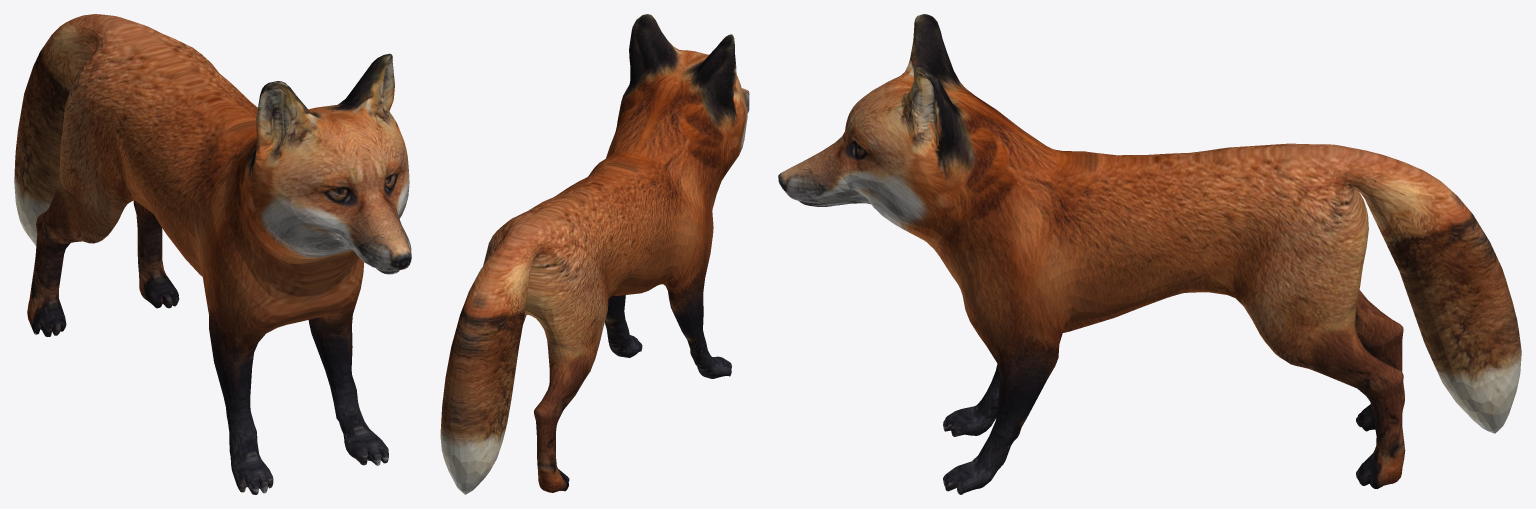
The model's file is Fox.fbx.
3 views of the same model, side by side, from view 1: azimuth 30°, elevation 25°; view 2: azimuth 150°, elevation 25°; view 3: azimuth 270°, elevation 25° (orthographic). The views are drawn at different scales.
Visible parts, largest first — view 1: Fox.002; view 2: Fox.002; view 3: Fox.002.
Part boxes in pixels (x1=…): Fox.002: x1=14, y1=14, x2=411, y2=494; Fox.002: x1=440, y1=14, x2=749, y2=494; Fox.002: x1=778, y1=14, x2=1521, y2=494.
Bounding box in the file's own units: 149 × 402 × 647.
1 material, 1 textured.
